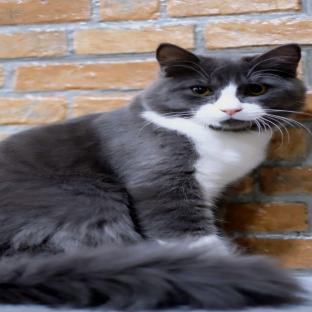Animal: (0, 43, 306, 311)
